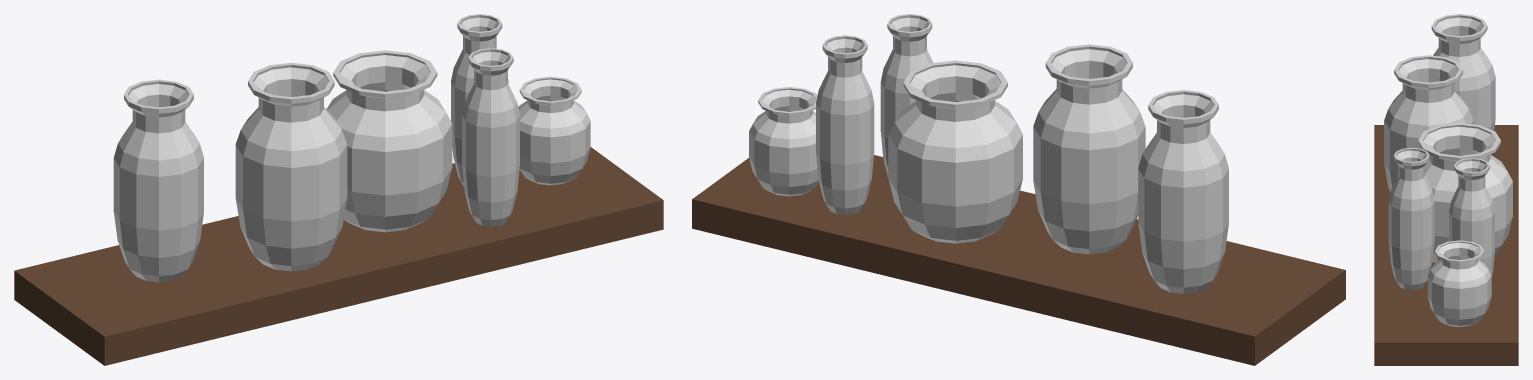
File: Shelf_Small_1.fbx
3 renders of one model, left to right at view 1: azimuth 30°, elevation 25°; view 2: azimuth 150°, elevation 25°; view 3: azimuth 270°, elevation 25°, orthographic. The views are drawn at different scales.
Visible parts, largest first — view 1: Small_Shelf.001; view 2: Small_Shelf.001; view 3: Small_Shelf.001.
Boxes of the visible parts, box(x1,y1,x2,y2) form: Small_Shelf.001: box(14, 14, 663, 365); Small_Shelf.001: box(692, 14, 1345, 365); Small_Shelf.001: box(1374, 14, 1518, 365).
Size of the model in its own units: 101 by 35.42 by 28.15.
